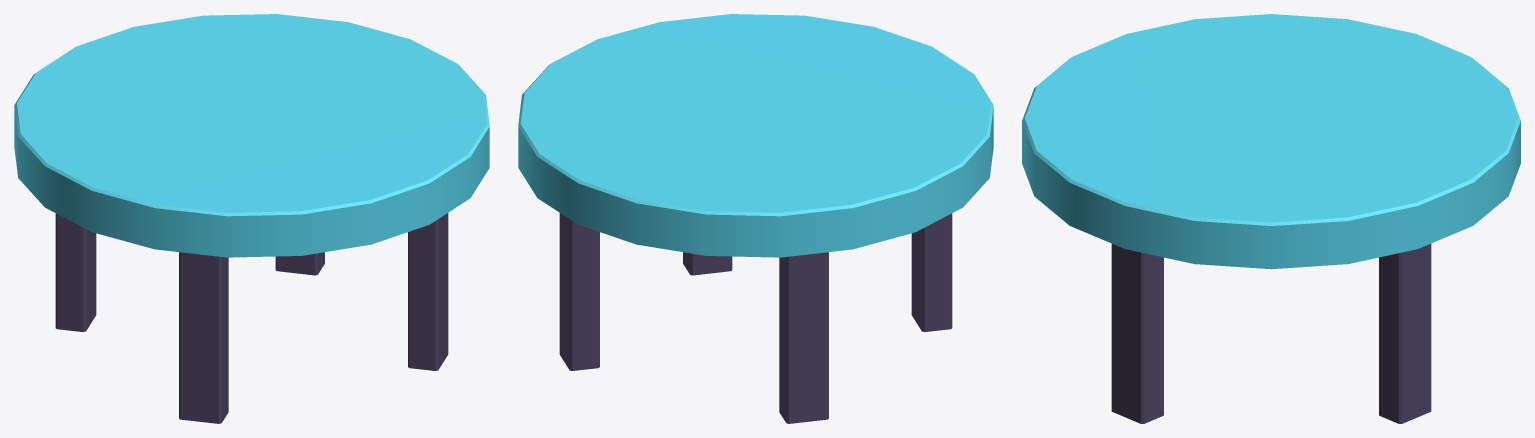
File: table59.fbx
3 views of the same model, side by side, from view 1: azimuth 30°, elevation 25°; view 2: azimuth 150°, elevation 25°; view 3: azimuth 270°, elevation 25° (orthographic). The views are drawn at different scales.
Parts seen in each view (by area): view 1: table59; view 2: table59; view 3: table59.
Part boxes in pixels (bbox=[...]): table59: bbox=[14, 14, 489, 423]; table59: bbox=[518, 14, 993, 423]; table59: bbox=[1022, 14, 1520, 423].
Size of the model in its own units: 5.26 by 2.76 by 5.26.
